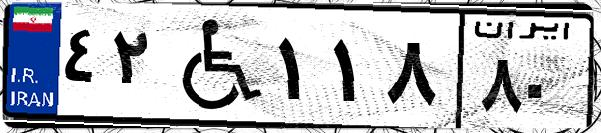0: (525, 38, 570, 115)
1: (270, 28, 330, 110), (330, 28, 385, 110)
2: (110, 28, 158, 98)
4: (57, 26, 110, 100)
8: (385, 28, 445, 110), (475, 38, 525, 113)
ژ (معلولین و جانبازان): (158, 12, 270, 120)
